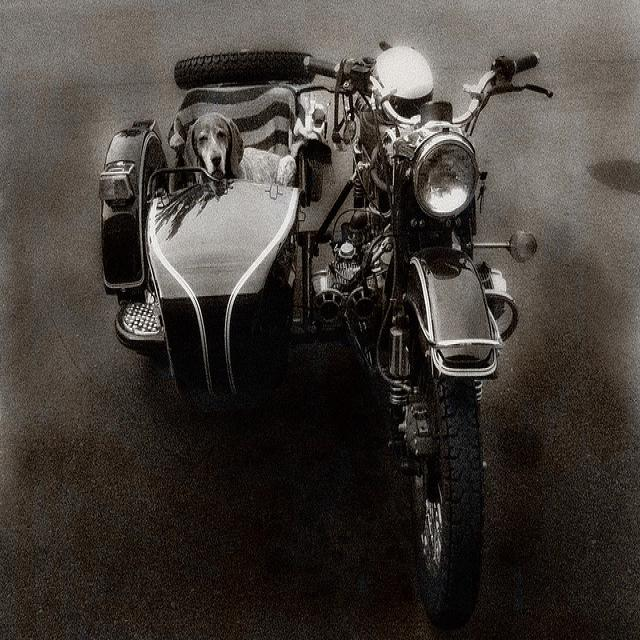motor: (99, 41, 556, 496)
